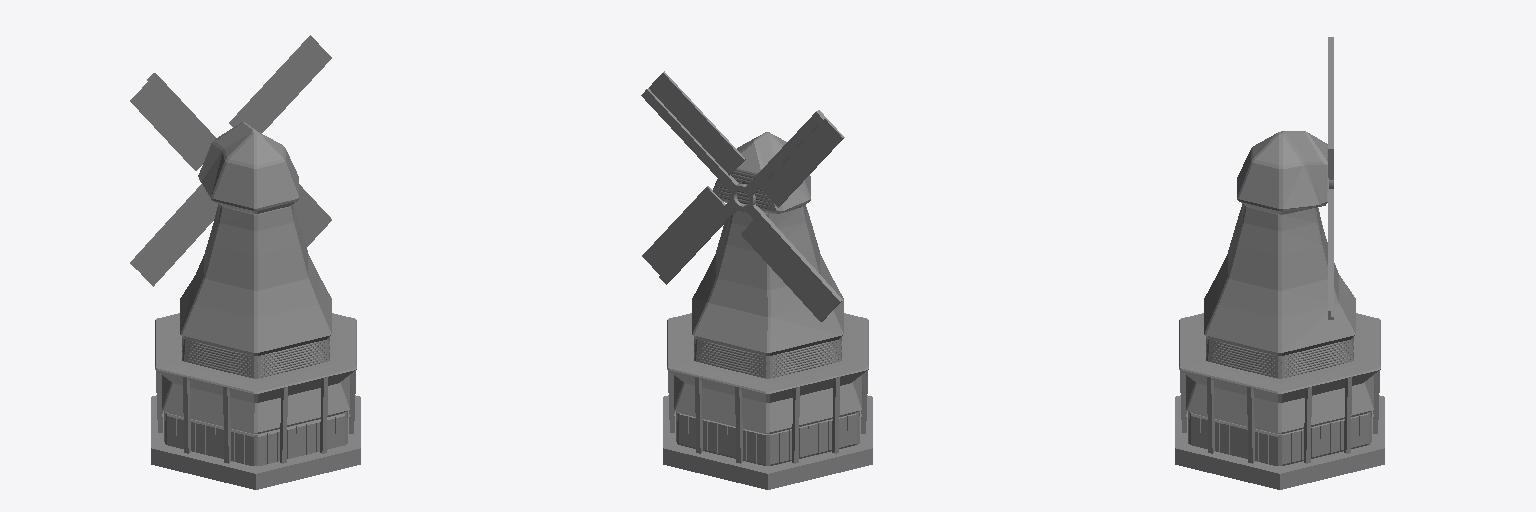
The model's file is WindmillSmall.obj.
The picture shows the model from 3 angles: view 1: azimuth 30°, elevation 25°; view 2: azimuth 150°, elevation 25°; view 3: azimuth 270°, elevation 25°; orthographic projection.
Parts seen in each view (by area): view 1: Object_1, Object_2; view 2: Object_1, Object_2; view 3: Object_1, Object_2.
Boxes of the visible parts, x1,y1,x2,y2 form: Object_1: [151, 122, 360, 489]; Object_2: [130, 35, 331, 286]; Object_1: [663, 132, 872, 489]; Object_2: [641, 71, 844, 321]; Object_1: [1175, 131, 1384, 489]; Object_2: [1328, 37, 1333, 319].
Bounding box in the file's own units: 0.8706 × 1.45 × 0.754.